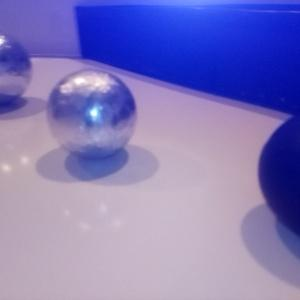alive_ball: (46, 68, 138, 159), (1, 33, 33, 106)
dead_ball: (257, 112, 300, 235)
